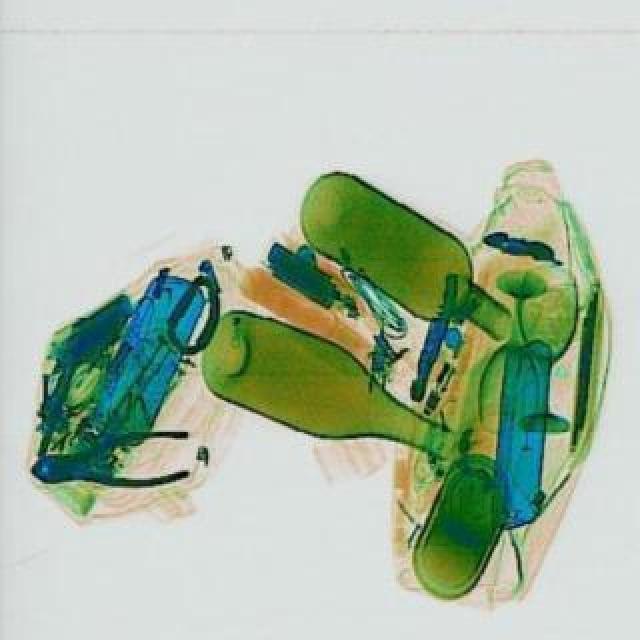wrench: (28, 426, 192, 494)
